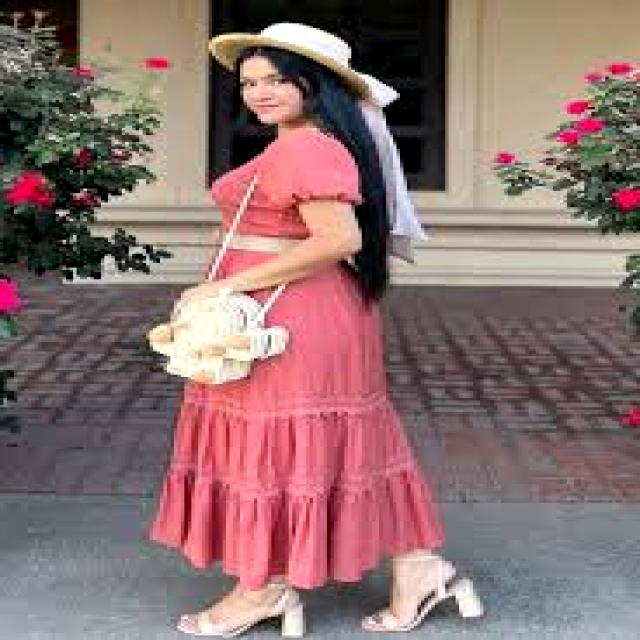dress: (150, 263, 441, 588)
foot-wear: (362, 552, 483, 633), (178, 582, 306, 637)
hat: (209, 24, 368, 97)
